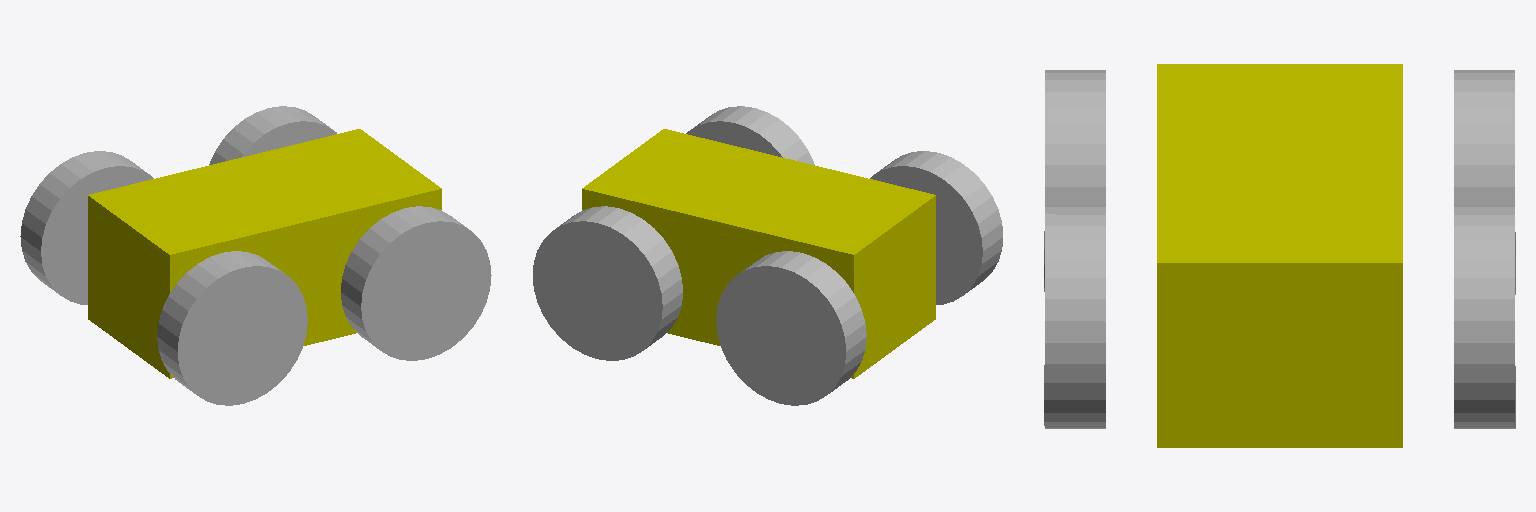
robot.urdf — rubot:
<?xml version="1.0" encoding="utf-8"?>
<!-- =================================================================================== -->
<!-- |    This document was autogenerated by xacro from rubot_mecanum.xacro            | -->
<!-- |    EDITING THIS FILE BY HAND IS NOT RECOMMENDED                                 | -->
<!-- =================================================================================== -->
<robot name="rubot">
  <material name="yellow">
    <color rgba="0.8 0.8 0.0 1.0"/>
  </material>
  <material name="black">
    <color rgba="0.15 0.15 0.15 1.0"/>
  </material>
  <material name="dark_grey">
    <color rgba="0.2 0.2 0.2 1.0"/>
  </material>
  <material name="light_grey">
    <color rgba="0.75 0.75 0.75 1.0"/>
  </material>

<!-- base_footprint reference frame without inertia is needed -->
  <link name="base_footprint"/>
<!-- base_link -->
  <joint name="base_link_joint" type="fixed">
    <origin rpy="0 0 0" xyz="0 0 0"/>
    <parent link="base_footprint"/>
    <child link="base_link"/>
  </joint>
  <link name="base_link">
    <visual>
      <origin rpy="0 0 0" xyz="0 0 0"/>
      <geometry>
        <!-- <mesh filename="package://robot_description/meshes/base_link.stl" scale="0.001 0.001 0.001"/>-->
        <box size="0.23 0.12 0.1"/>
      </geometry>
      <material name="yellow"/>
    </visual>
    <collision>
      <origin xyz="0 0 0"/>
      <geometry>
        <box size="0.23 0.12 0.05"/>
      </geometry>
    </collision>
    <inertial>
      <origin rpy="0 0 0" xyz="0 0 0"/>
      <mass value="5"/>
      <inertia ixx="0.0104" ixy="0" ixz="0" iyy="0.0292" iyz="0" izz="0.0375"/>
    </inertial>
  </link>
<!-- upper_left_wheel -->
  <joint name="upper_left_wheel_joint" type="continuous">
    <origin rpy="0 0 0" xyz="0.07 0.1 0"/>
    <parent link="base_link"/>
    <child link="upper_left_wheel"/>
    <axis xyz="0 1 0"/>
  </joint>
  <link name="upper_left_wheel">
    <visual>
      <!--<origin rpy="0 0 0" xyz="0 0 0"/>-->
      <origin rpy="-1.57 0 0" xyz="0 0 0"/>
      <geometry>
        <!-- <mesh filename="package://robot_description/meshes/upper_left_wheel.stl" scale="0.001 0.001 0.001"/>-->
        <cylinder length="0.03" radius="0.055"/>
      </geometry>
      <material name="light_grey"/>
    </visual>
    <collision>
      <origin rpy="-1.57 0 0" xyz="0 0 0"/>
      <geometry>
        <cylinder length="0.03" radius="0.055"/>
      </geometry>
    </collision>
    <inertial>
      <mass value="0.2"/>
      <inertia ixx="0.000166" ixy="0" ixz="0" iyy="0.000303" iyz="0" izz="0.000166"/>
    </inertial>
  </link>
<!-- lower_left_wheel -->
  <joint name="lower_left_wheel_joint" type="continuous">
    <origin rpy="0 0 0" xyz="-0.085 0.1 0"/>
    <parent link="base_link"/>
    <child link="lower_left_wheel"/>
    <axis xyz="0 1 0"/>
  </joint>
  <link name="lower_left_wheel">
    <visual>
      <!--<origin rpy="0 0 0" xyz="0 0 0"/>-->
      <origin rpy="-1.57 0 0" xyz="0 0 0"/>
      <geometry>
        <!--<mesh filename="package://robot_description/meshes/lower_left_wheel.stl" scale="0.001 0.001 0.001"/>-->
        <cylinder length="0.03" radius="0.055"/>
      </geometry>
      <material name="light_grey"/>
    </visual>
    <collision>
      <origin rpy="-1.57 0 0" xyz="0 0 0"/>
      <geometry>
        <cylinder length="0.03" radius="0.055"/>
      </geometry>
    </collision>
    <inertial>
      <mass value="0.2"/>
      <inertia ixx="0.000166" ixy="0" ixz="0" iyy="0.000303" iyz="0" izz="0.000166"/>
    </inertial>
  </link>
<!-- upper_right_wheel -->
  <joint name="upper_right_wheel_joint" type="continuous">
    <origin rpy="0 0 3.14" xyz="0.07 -0.1 0"/>
    <parent link="base_link"/>
    <child link="upper_right_wheel"/>
    <axis xyz="0 -1 0"/>
  </joint>
  <link name="upper_right_wheel">
    <visual>
      <!--<origin rpy="0 0 0" xyz="0 0 0"/>-->
      <origin rpy="-1.57 0 0" xyz="0 0 0"/>
      <geometry>
        <!--<mesh filename="package://robot_description/meshes/upper_right_wheel.stl" scale="0.001 0.001 0.001"/>-->
        <cylinder length="0.03" radius="0.055"/>
      </geometry>
      <material name="light_grey"/>
    </visual>
    <collision>
      <origin rpy="-1.57 0 0" xyz="0 0 0"/>
      <geometry>
        <cylinder length="0.03" radius="0.055"/>
      </geometry>
    </collision>
    <inertial>
      <mass value="0.2"/>
      <inertia ixx="0.000166" ixy="0" ixz="0" iyy="0.000303" iyz="0" izz="0.000166"/>
    </inertial>
  </link>
<!-- lower_right_wheel -->
  <joint name="lower_right_wheel_joint" type="continuous">
    <origin rpy="0 0 3.14" xyz="-0.085 -0.1 0"/>
    <parent link="base_link"/>
    <child link="lower_right_wheel"/>
    <axis xyz="0 -1 0"/>
  </joint>
  <link name="lower_right_wheel">
    <visual>
      <!--<origin rpy="0 0 0" xyz="0 0 0"/>-->
      <origin rpy="-1.57 0 0" xyz="0 0 0"/>
      <geometry>
        <!--<mesh filename="package://robot_description/meshes/lower_right_wheel.stl" scale="0.001 0.001 0.001"/>-->
        <cylinder length="0.03" radius="0.055"/>
      </geometry>
      <material name="light_grey"/>
    </visual>
    <collision>
      <origin rpy="-1.57 0 0" xyz="0 0 0"/>
      <geometry>
        <cylinder length="0.03" radius="0.055"/>
      </geometry>
    </collision>
    <inertial>
      <mass value="0.2"/>
      <inertia ixx="0.000166" ixy="0" ixz="0" iyy="0.000303" iyz="0" izz="0.000166"/>
    </inertial>
  </link> -->
<!-- 2D Camera as a mesh of actual PiCamera -->
  <joint name="joint_camera" type="fixed">
    <origin rpy="0 0 0" xyz="0.120 0.0 0.09"/>
    <parent link="base_link"/>
    <child link="camera"/>
    <axis xyz="0 1 0"/>
  </joint>
  <link name="camera">
    <visual>
      <origin rpy="0 0 0" xyz="0 0 0"/>
      <geometry>
        <mesh filename="package://robot_description/meshes/piCamera.stl" scale="0.001 0.001 0.001"/>
      </geometry>
      <material name="black"/>
    </visual>
    <collision>
      <origin rpy="0 1.57 0" xyz="0 0 0"/>
      <geometry>
        <box size="0.05 0.05 0.025"/>
      </geometry>
    </collision>
    <inertial>
      <origin rpy="0 1.570795 0" xyz="0 0 0"/>
      <mass value="0.01"/>
      <inertia ixx="1e-6" ixy="0" ixz="0" iyy="1e-6" iyz="0" izz="1e-6"/>
    </inertial>
  </link>
  <!-- LIDAR base_scan -->
  <link name="base_scan">
    <visual>
      <origin rpy="0 0 3.14" xyz="0 0 0.0"/>
      <geometry>
        <mesh filename="package://robot_description/meshes/Lidar.stl" scale="0.001 0.001 0.001"/>
      </geometry>
      <material name="black"/>
    </visual>
    <collision>
      <origin rpy="0 0 0" xyz="0 0 0"/>
      <geometry>
        <cylinder length="0.05" radius="0.05"/>
      </geometry>
    </collision>
    <inertial>
      <origin rpy="0 0 0" xyz="0 0 0.4"/>
      <mass value="0.05"/>
      <inertia ixx="0.001" ixy="0.0" ixz="0.0" iyy="0.001" iyz="0.0" izz="0.001"/>
    </inertial>
  </link>
  <joint name="scan_joint" type="fixed">
    <axis xyz="0 0 1"/>
    <origin rpy="0 0 3.14" xyz="0 0 0.15"/>
    <parent link="base_link"/>
    <child link="base_scan"/>
  </joint>
  <!-- Box part -->
  <joint name="joint_part" type="fixed">
    <origin rpy="0 0 0" xyz="-0.10 0.0 0.09"/>
    <parent link="base_link"/>
    <child link="part"/>
  </joint>
  <link name="part">
    <visual>
      <origin rpy="0 0 0" xyz="0 0 0"/>
      <geometry>
        <mesh filename="package://robot_description/meshes/number2.stl" scale="0.0008 0.0008 0.0008"/>
      </geometry>
      <material name="black"/>
    </visual>
    <collision>
      <origin rpy="0 0 0" xyz="0 0 0"/>
      <geometry>
        <box size="0.05 0.05 0.025"/>
      </geometry>
    </collision>
    <inertial>
      <mass value="0.01"/>
      <inertia ixx="1e-6" ixy="0" ixz="0" iyy="1e-6" iyz="0" izz="1e-6"/>
    </inertial>
  </link>
  <!-- Mecanum drive controller -->
  <gazebo>
    <plugin name="Mecanum_controller" filename="libgazebo_ros_planar_move.so">
      <commandTopic>cmd_vel</commandTopic>
      <odometryTopic>odom</odometryTopic>
      <odometryFrame>odom</odometryFrame>
      <odometrySource>world</odometrySource>
      <publishOdomTF>true</publishOdomTF>
      <odometryRate>50.0</odometryRate>
      <robotBaseFrame>base_footprint</robotBaseFrame>
      <publishWheelTF>false</publishWheelTF>
      <publishTf>true</publishTf>
      <publishWheelJointState>true</publishWheelJointState>
      <wheelAcceleration>0.5</wheelAcceleration>
      <wheelTorque>1</wheelTorque>
      <legacyMode>false</legacyMode>
      <updateRate>30</updateRate>
      <leftFrontJoint>upper_left_wheel_joint</leftFrontJoint>
      <rightFrontJoint>upper_right_wheel_joint</rightFrontJoint>
      <leftRearJoint>lower_left_wheel_joint</leftRearJoint>
      <rightRearJoint>lower_right_wheel_joint</rightRearJoint>
    </plugin>
  </gazebo>
  <!-- 2D Camera controller -->
  <gazebo reference="camera">
    <sensor name="camera1" type="camera">
      <update_rate>30.0</update_rate>
      <camera name="front">
        <horizontal_fov>1.3962634</horizontal_fov>
        <image>
          <width>320</width>
          <height>240</height>
          <format>R8G8B8</format>
        </image>
        <clip>
          <near>0.02</near>
          <far>300</far>
        </clip>
      </camera>
      <plugin filename="libgazebo_ros_camera.so" name="camera_controller">
        <alwaysOn>true</alwaysOn>
        <visualize>false</visualize>
        <cameraName>rubot/camera1</cameraName>
        <imageTopicName>image_raw</imageTopicName>
        <cameraInfoTopicName>camera_info</cameraInfoTopicName>
        <frameName>camera</frameName>
        <hackBaseline>0.07</hackBaseline>
        <distortionK1>0.0</distortionK1>
        <distortionK2>0.0</distortionK2>
        <distortionK3>0.0</distortionK3>
        <distortionT1>0.0</distortionT1>
        <distortionT2>0.0</distortionT2>
      </plugin>
    </sensor>
  </gazebo>
  <!-- Laser Distance Sensor YDLIDAR X4 controller-->
  <gazebo reference="base_scan">
    <sensor name="lds_lfcd_sensor" type="ray">
      <pose>0 0 0 0 0 0</pose>
      <visualize>false</visualize>
      <update_rate>5</update_rate>
      <ray>
        <scan>
          <horizontal>
            <samples>720</samples>
            <resolution>1</resolution>
            <min_angle>0.0</min_angle>
            <max_angle>6.28319</max_angle>
          </horizontal>
        </scan>
        <range>
          <min>0.12</min>
          <max>10</max>
          <resolution>0.015</resolution>
        </range>
        <noise>
          <type>gaussian</type>
          <!-- Noise parameters based on published spec for YDLIDAR X4
              is 1.5% at half range 4m (= 60mm, "+-160mm" accuracy at max. range 8m).
              A mean of 0.0m and stddev of 0.020m will put 99.7% of samples
              within 0.16m of the true reading. -->
          <mean>0.0</mean>
          <stddev>0.02</stddev>
        </noise>
      </ray>
      <plugin filename="libgazebo_ros_laser.so" name="gazebo_ros_lds_lfcd_controller">
        <!-- topicName>/gopigo/scan</topicName -->
        <topicName>scan</topicName>
        <frameName>base_scan</frameName>
      </plugin>
    </sensor>
  </gazebo>
<!-- Gazebo colors have to be specified here with predefined Gazebo colors -->
  <gazebo reference="base_footprint">
    <material>Gazebo/Yellow</material>
    <gravity>true</gravity>
  </gazebo>
  <gazebo reference="base_link">
    <material>Gazebo/Yellow</material>
  </gazebo>
  <gazebo reference="base_scan">
    <material>Gazebo/DarkGrey</material>
  </gazebo>
  <gazebo reference="camera">
    <material>Gazebo/Green</material>
  </gazebo>
  <gazebo reference="part">
    <material>Gazebo/Green</material>
  </gazebo>
  <gazebo reference="upper_left_wheel">
    <material>Gazebo/Grey</material>
    <mu1>0.5</mu1>
    <mu2>0.5</mu2>
    <kp>1000</kp>
    <ki>100</ki>
    <kd>1</kd>
    <minDepth>0.001</minDepth>
    <maxVel>0.5</maxVel>
    <fdir1>1 0 0</fdir1>
  </gazebo>
  <gazebo reference="lower_left_wheel">
    <material>Gazebo/Grey</material>
    <mu1>0.5</mu1>
    <mu2>0.5</mu2>
    <kp>1000</kp>
    <ki>100</ki>
    <kd>1</kd>
    <minDepth>0.001</minDepth>
    <maxVel>0.5</maxVel>
    <fdir1>1 0 0</fdir1>
  </gazebo>
  <gazebo reference="upper_right_wheel">
    <material>Gazebo/Grey</material>
    <mu1>0.5</mu1>
    <mu2>0.5</mu2>
    <kp>1000</kp>
    <ki>100</ki>
    <kd>1</kd>
    <minDepth>0.001</minDepth>
    <maxVel>0.5</maxVel>
    <fdir1>1 0 0</fdir1>
  </gazebo>
  <gazebo reference="lower_right_wheel">
    <material>Gazebo/Grey</material>
    <mu1>0.5</mu1>
    <mu2>0.5</mu2>
    <kp>1000</kp>
    <ki>100</ki>
    <kd>1</kd>
    <minDepth>0.001</minDepth>
    <maxVel>0.5</maxVel>
    <fdir1>1 0 0</fdir1>
  </gazebo>
</robot>

--- Render facts (derived) ---
Views: 3 orthographic renders of the robot side by side, from view 1: azimuth 30°, elevation 25°; view 2: azimuth 150°, elevation 25°; view 3: azimuth 270°, elevation 25°.
Robot: rubot — 9 links, 8 joints (4 continuous, 4 fixed); root link base_footprint; default pose: all joints at 0.
Visible links, largest first — view 1: base_link, lower_right_wheel, upper_right_wheel, lower_left_wheel, upper_left_wheel; view 2: base_link, lower_left_wheel, upper_left_wheel, lower_right_wheel, upper_right_wheel; view 3: base_link, upper_left_wheel, upper_right_wheel, lower_left_wheel, lower_right_wheel.
Boxes of the visible links, left/top/right/bottom form: base_link: left=88, top=129, right=441, bottom=378; lower_right_wheel: left=157, top=251, right=307, bottom=405; upper_right_wheel: left=341, top=206, right=491, bottom=360; lower_left_wheel: left=20, top=151, right=153, bottom=304; upper_left_wheel: left=209, top=106, right=336, bottom=164; base_link: left=582, top=129, right=935, bottom=378; lower_left_wheel: left=716, top=251, right=866, bottom=405; upper_left_wheel: left=533, top=206, right=682, bottom=360; lower_right_wheel: left=870, top=151, right=1002, bottom=304; upper_right_wheel: left=686, top=106, right=814, bottom=164; base_link: left=1157, top=64, right=1402, bottom=447; upper_left_wheel: left=1454, top=204, right=1515, bottom=428; upper_right_wheel: left=1044, top=204, right=1105, bottom=428; lower_left_wheel: left=1454, top=70, right=1515, bottom=294; lower_right_wheel: left=1044, top=70, right=1105, bottom=291.
Size in the robot's own frame: 0.265 by 0.2301 by 0.11 metres.
0 mesh visuals loaded from 3 distinct referenced files (none loaded); not drawn: 2 (reference not matched to a file when rendering), 1 (file found but could not be loaded).
